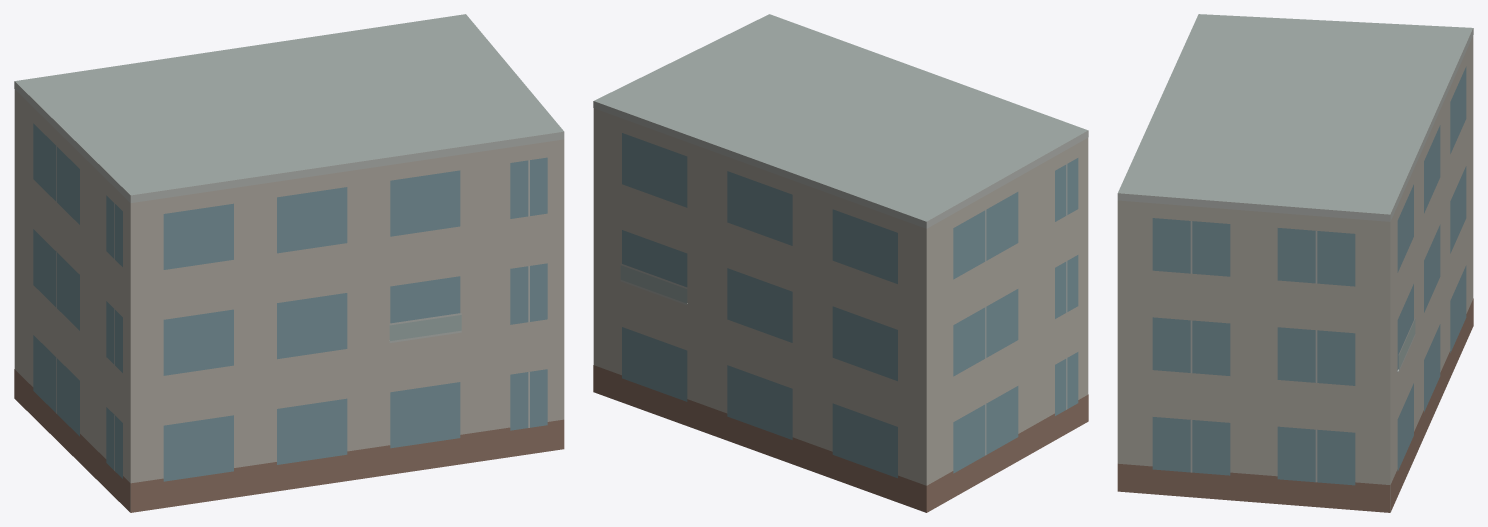
File: survey-upis-32544061.glb
3 views of the same model, side by side, from view 1: azimuth 30°, elevation 25°; view 2: azimuth 150°, elevation 25°; view 3: azimuth 270°, elevation 25° (orthographic). The views are drawn at different scales.
Visible parts, largest first — view 1: survey-upis-32544061.tmp; view 2: survey-upis-32544061.tmp; view 3: survey-upis-32544061.tmp.
Boxes of the visible parts, x1,y1,x2,y2 form: survey-upis-32544061.tmp: (14,14,564,512); survey-upis-32544061.tmp: (593,14,1088,512); survey-upis-32544061.tmp: (1117,14,1473,512).
Bounding box in the file's own units: 14.43 × 10 × 10.82.
